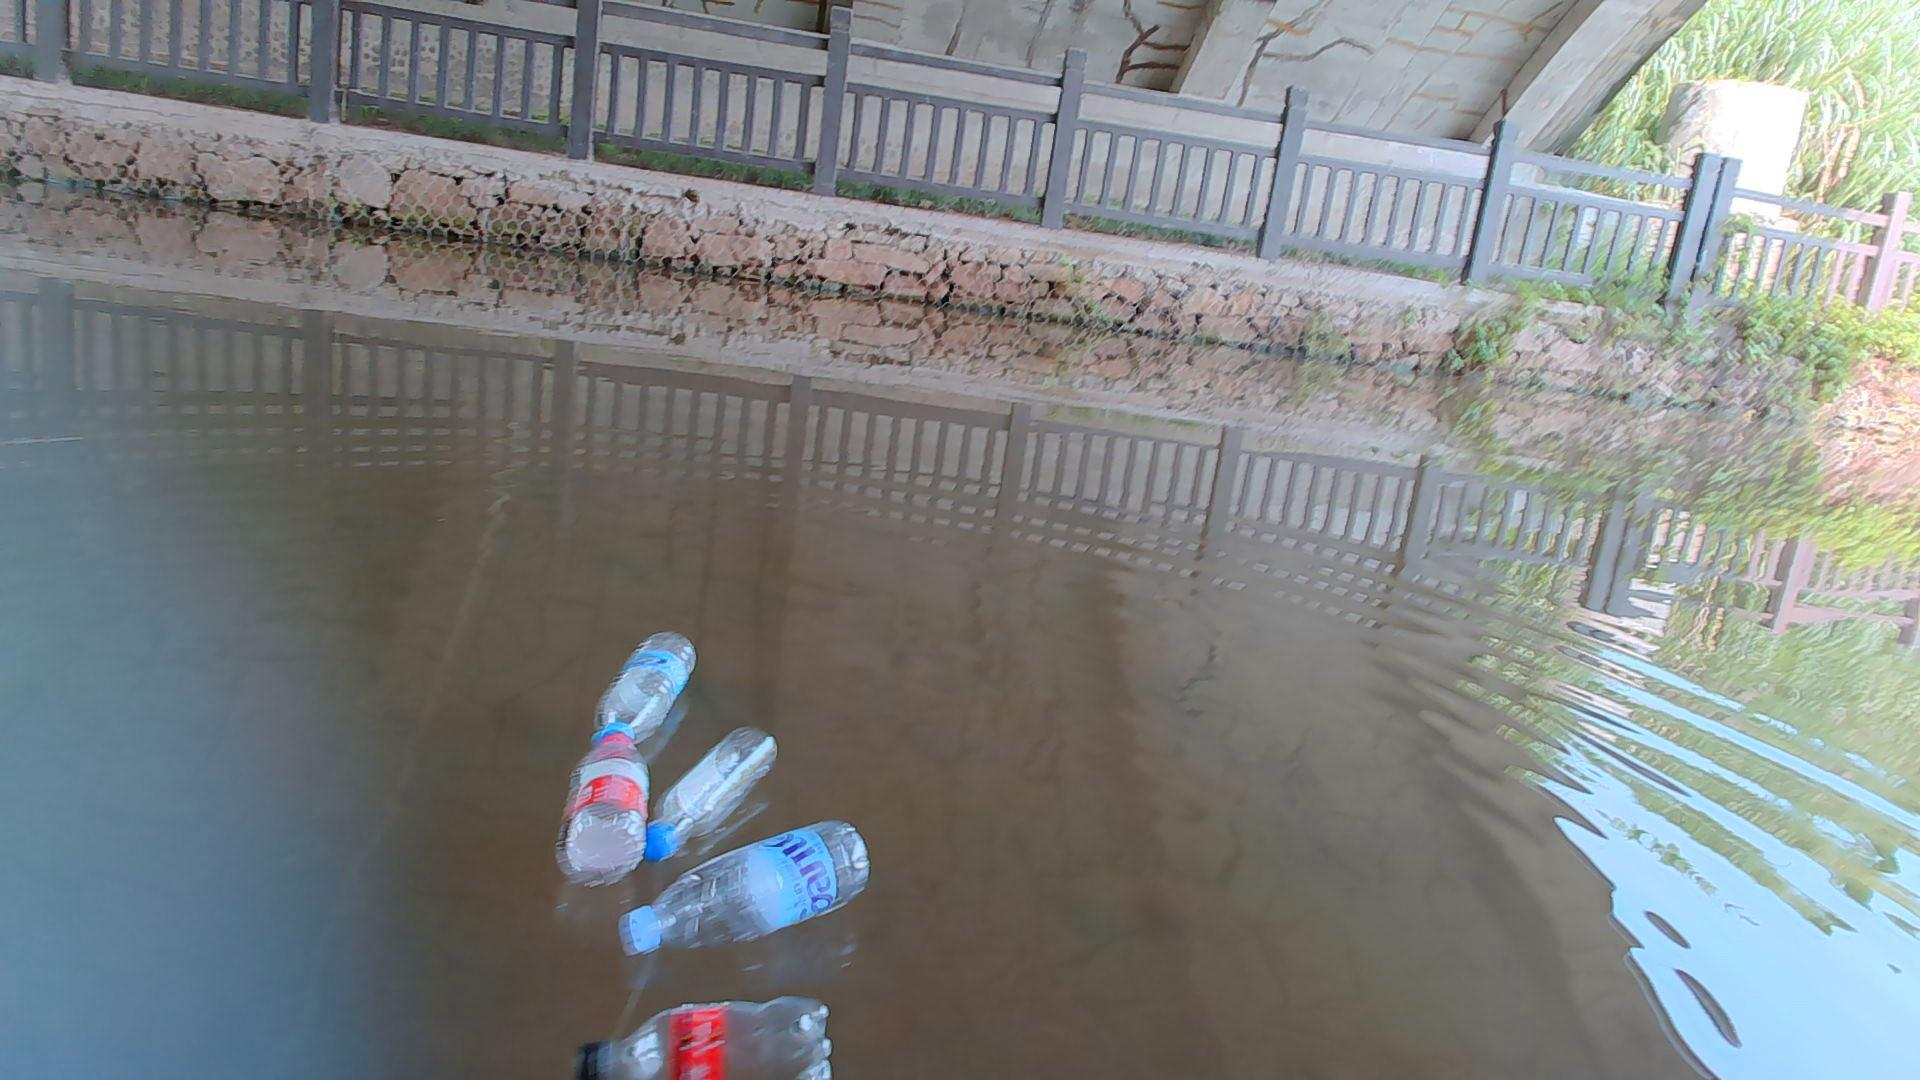Glass: (642, 717, 779, 858)
Plastic: (620, 822, 876, 952), (572, 989, 832, 1079), (553, 731, 650, 889), (588, 611, 699, 736)
